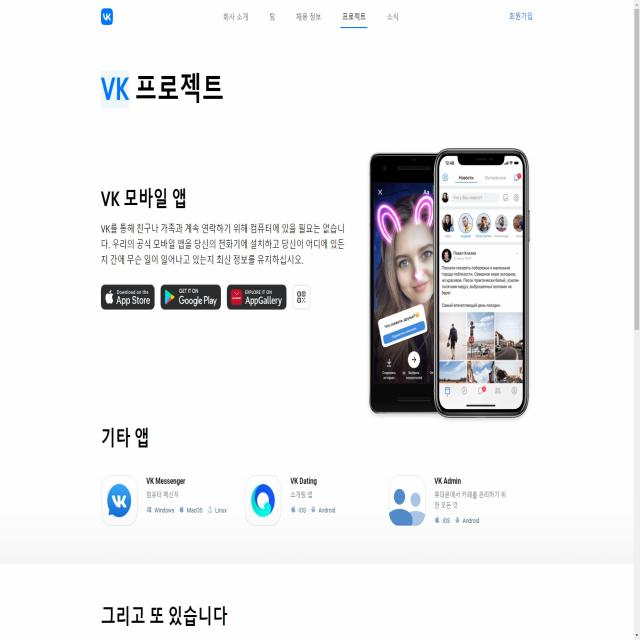menu-bar: (215, 2, 406, 29)
